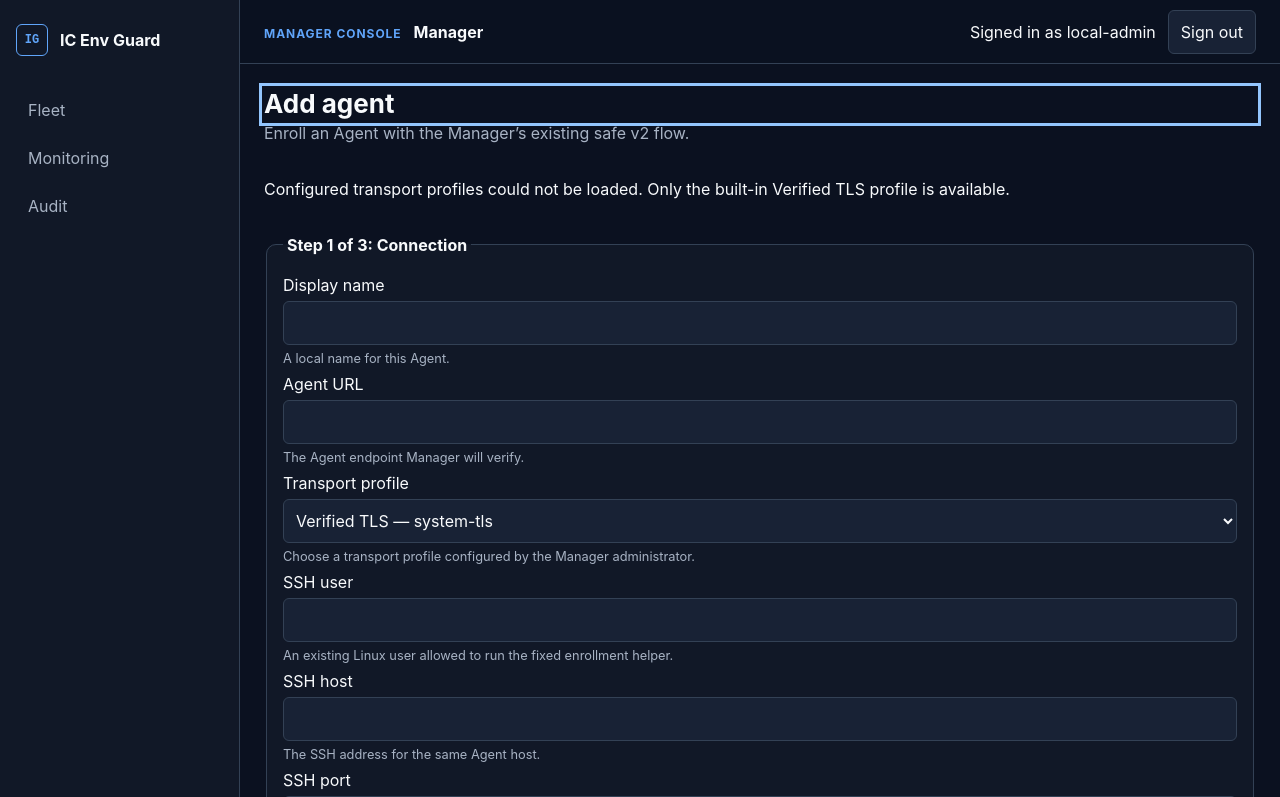
Test: Add agent flow › clears legacy token state and removes its password input after success
Type "Alpha" into the field labelled "Display name" at (760, 322), box [283, 300, 1237, 344]
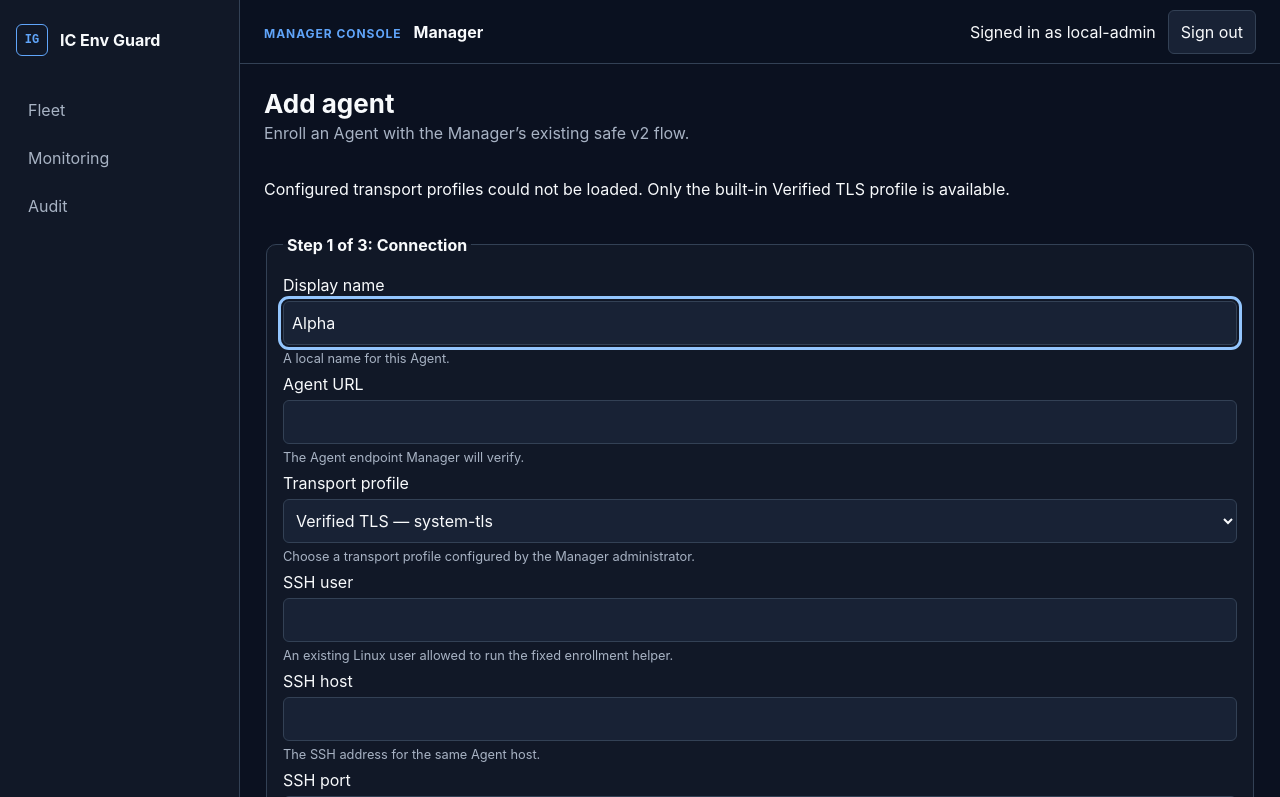
Type "https://10.0.0.4:8765" into the field labelled "Agent URL" at (760, 422), box [283, 400, 1237, 444]
(page scrolled)
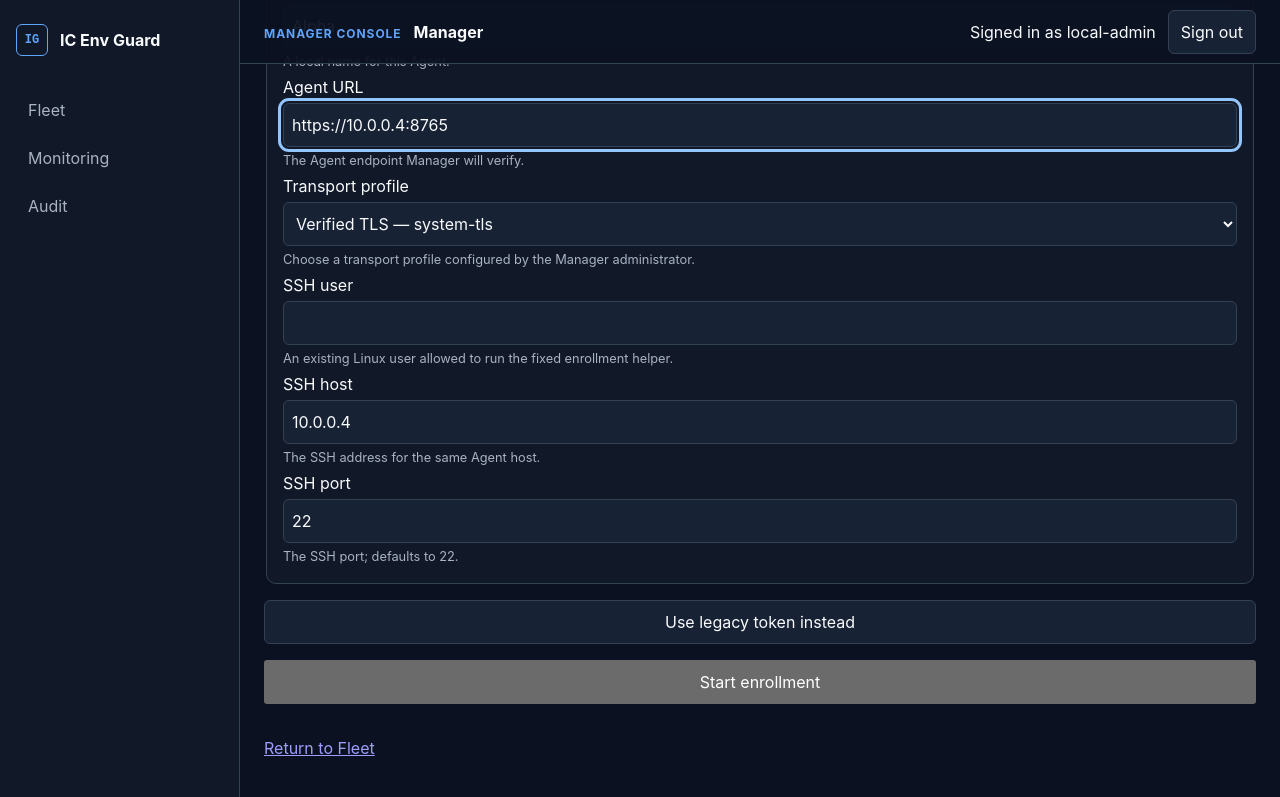
Click the button "Use legacy token instead" at (760, 622), box [264, 600, 1256, 644]
(page scrolled)
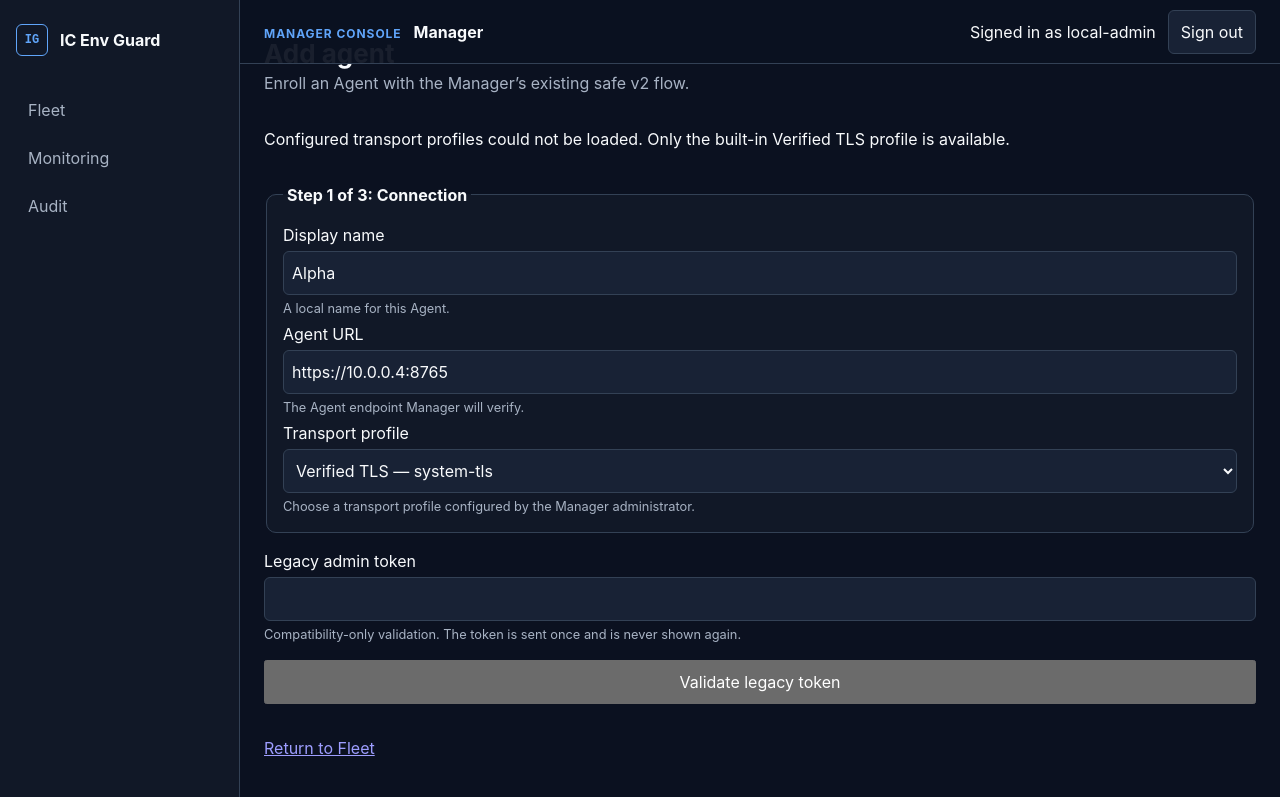
Check: the label labelled "SSH user" is gone
Type "legacy-secret-never-rendered" into the password field labelled "Legacy admin token" at (760, 599), box [264, 577, 1256, 621]
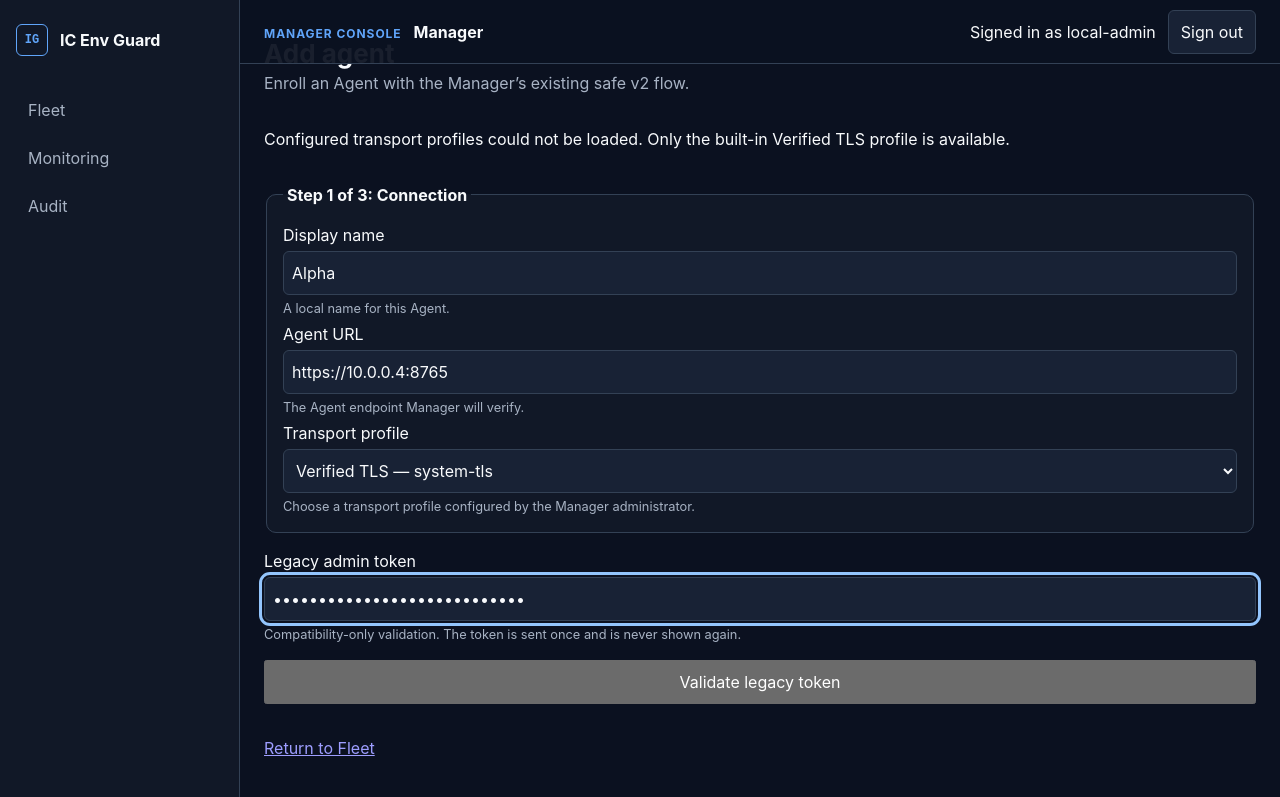
Click the button "Validate legacy token" at (760, 682), box [264, 660, 1256, 704]
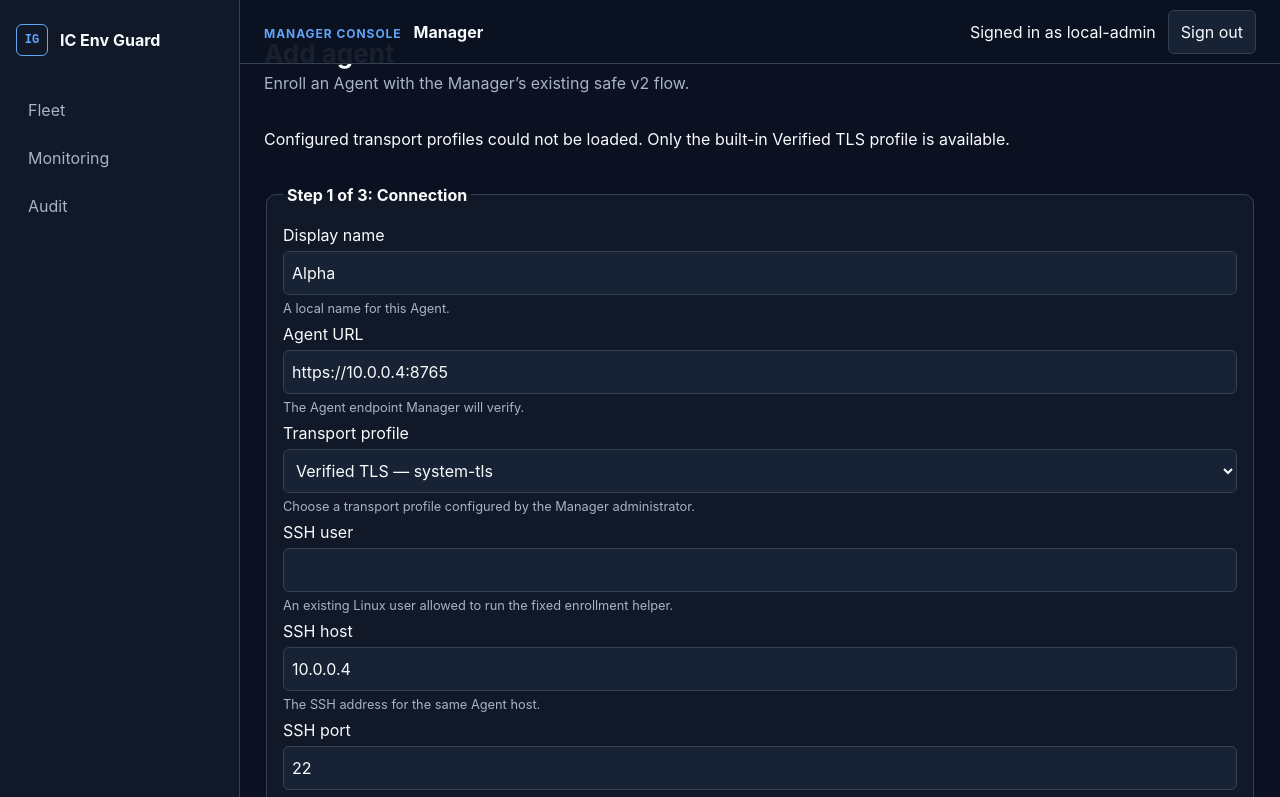
Check: the label labelled "Legacy admin token" is gone
